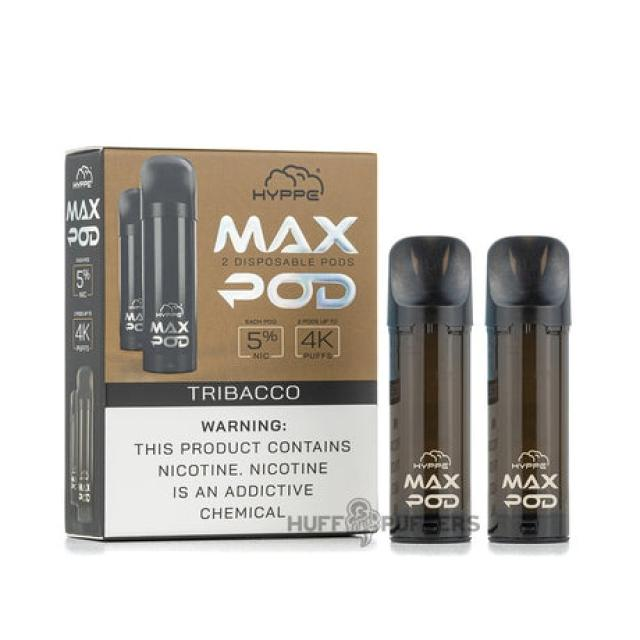Vapes: (62, 145, 378, 542)
